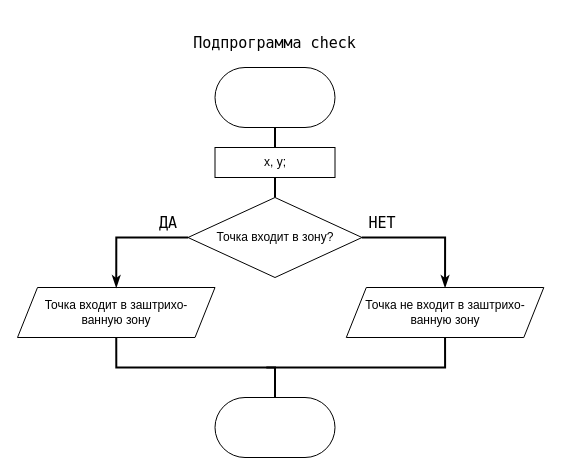
Image size: 562x475. Some labels were removed from this diagram. Here are the shapes that lost their labels. From the top down, the centre of each, then its label:
At point 274,97: "Начало".
At point 274,427: "Конец".
